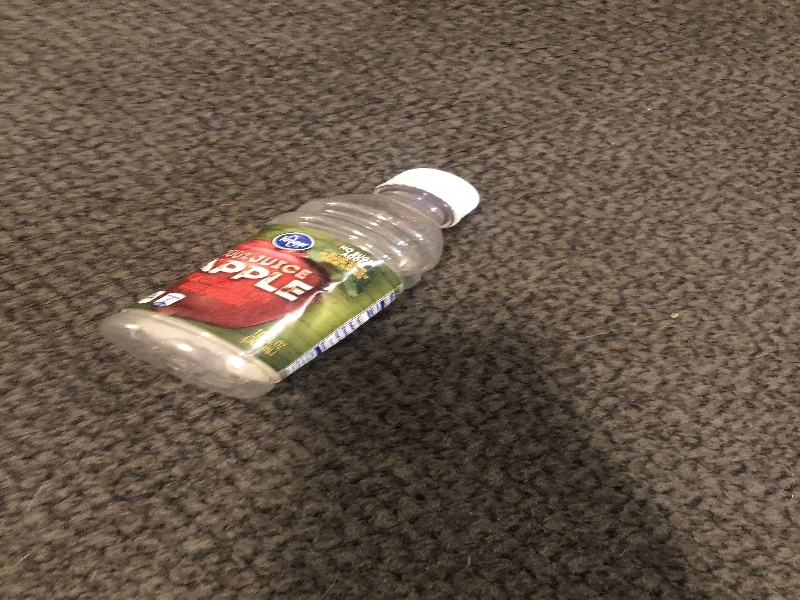plastic: (101, 162, 483, 401)
